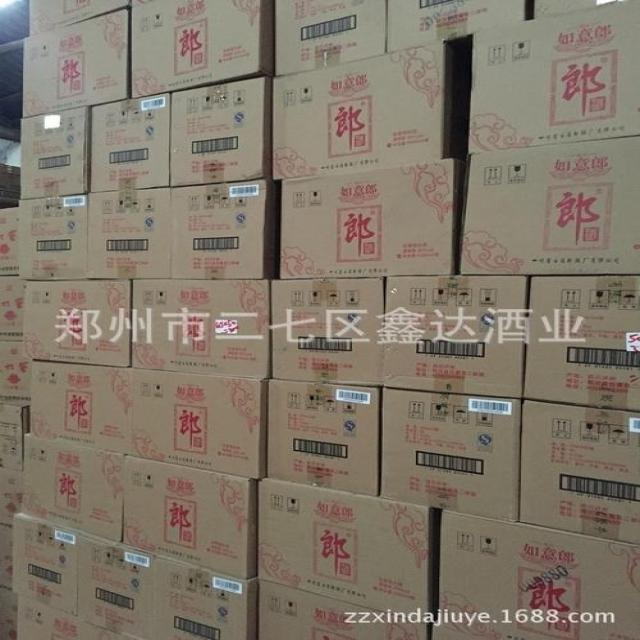box: (439, 509, 639, 639), (259, 478, 430, 623), (460, 136, 639, 274), (468, 12, 638, 153), (272, 42, 445, 180), (280, 158, 455, 279), (380, 387, 521, 522), (384, 275, 528, 398), (520, 400, 639, 544), (124, 455, 259, 579), (523, 276, 639, 410), (130, 369, 268, 479), (132, 1, 274, 98), (132, 279, 269, 379), (267, 379, 379, 496), (271, 277, 383, 386), (23, 9, 128, 118), (22, 432, 124, 541), (171, 77, 272, 186), (171, 180, 279, 279), (258, 579, 428, 639), (76, 531, 163, 640), (24, 280, 131, 368), (31, 361, 129, 454), (152, 555, 258, 639), (276, 0, 387, 75), (91, 93, 170, 192), (85, 189, 171, 278), (386, 0, 527, 54), (13, 513, 81, 618), (21, 106, 88, 199), (19, 196, 87, 280), (29, 0, 130, 36), (15, 594, 81, 639), (0, 340, 31, 405), (534, 0, 639, 19), (1, 404, 30, 471), (0, 276, 26, 340), (1, 466, 23, 527), (0, 207, 19, 275), (80, 621, 137, 639)
